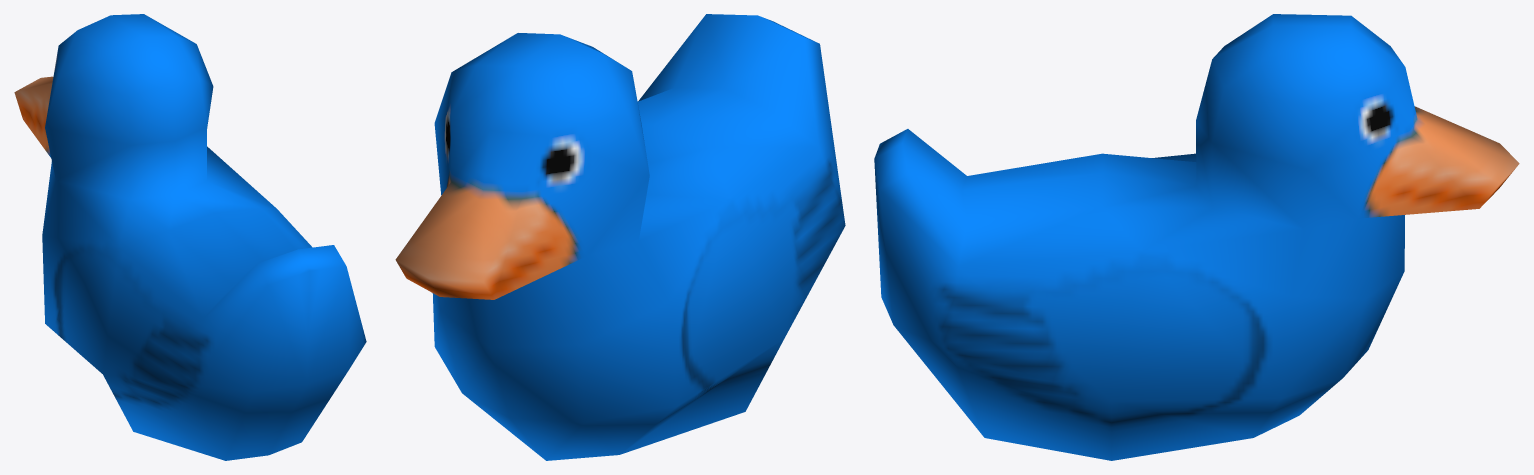
Rendered from BlueRubberducky.fbx.
3 views of the same model, side by side, from view 1: azimuth 30°, elevation 25°; view 2: azimuth 150°, elevation 25°; view 3: azimuth 270°, elevation 25° (orthographic). The views are drawn at different scales.
Visible parts, largest first — view 1: Object; view 2: Object; view 3: Object.
Boxes of the visible parts, x1,y1,x2,y2 form: Object: [14, 14, 366, 460]; Object: [395, 14, 845, 460]; Object: [874, 14, 1519, 460].
Bounding box in the file's own units: 0.0718 × 0.1034 × 0.155.
